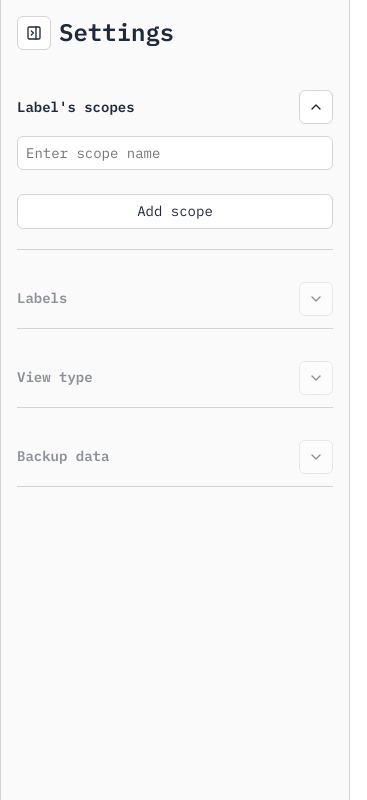
Test: BaseSettings › should render add label form
This screenshot has width=367, height=800.
Click the button titled "Collapse/Expand" in the row of "Labels" at point(316, 299), box [299,282,333,316]
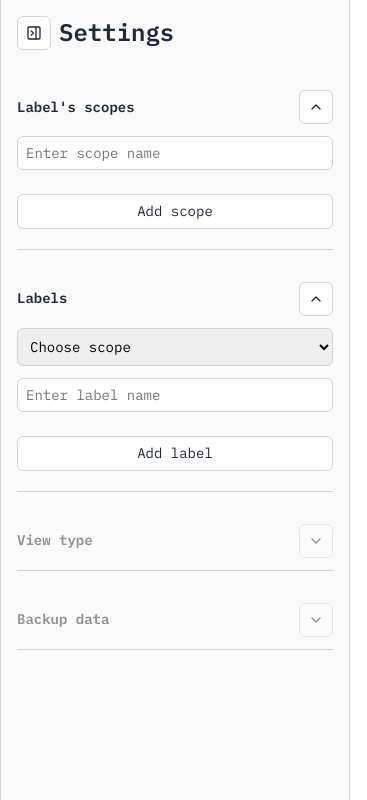
Check: the form with id "add-label-form" is shown, box [17,328,333,471]
